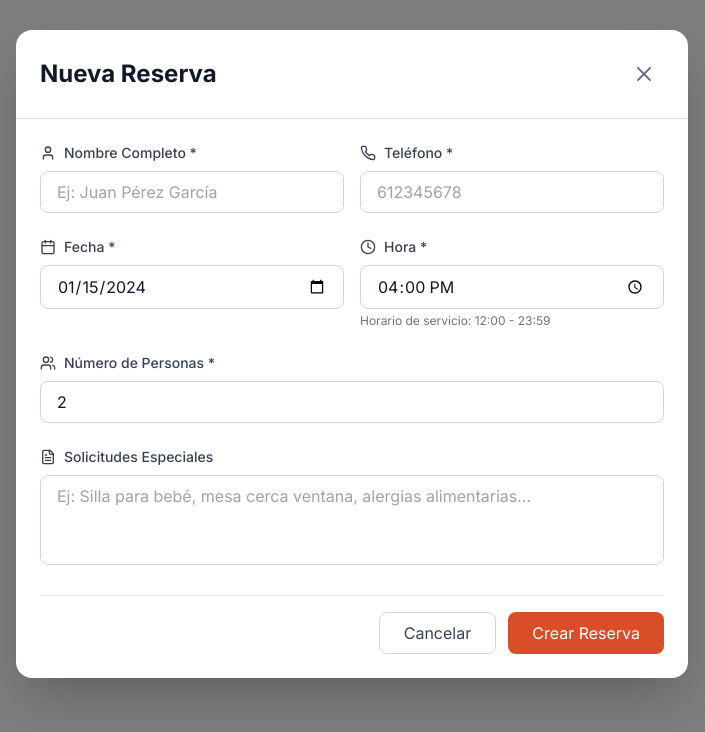
it: ReservaForm Component › Date Validation › should show error when date field is empty
Clear the date field labelled "Fecha *". click: (192, 287)
box: [40, 265, 344, 309]
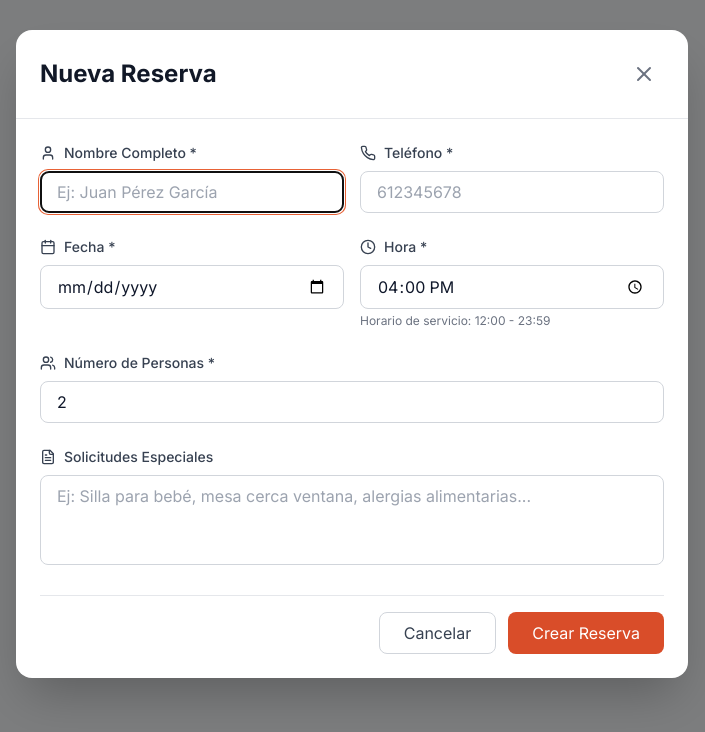
Click the button "Crear Reserva". click: (586, 633)
box: [508, 612, 664, 654]
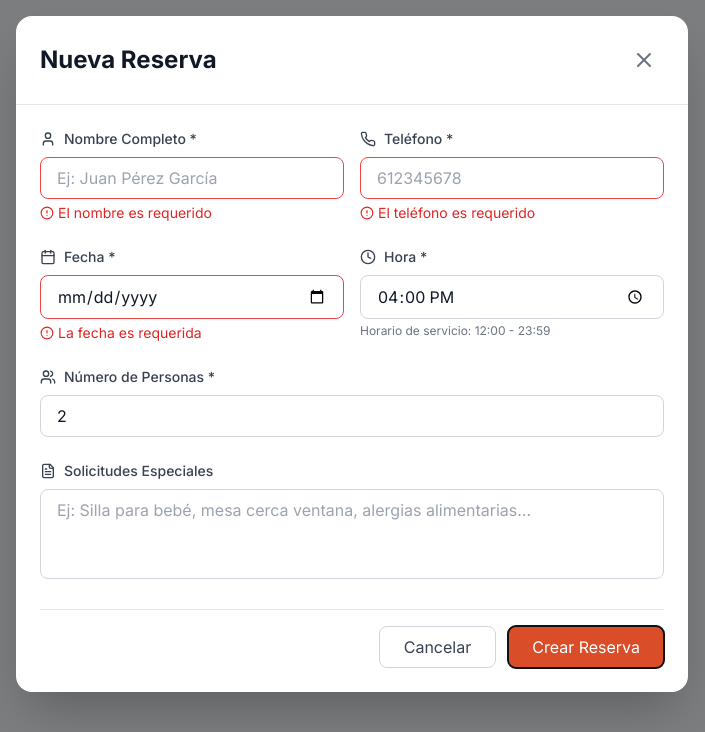
expect the text "La fecha es requerida" is shown: met, box [58, 323, 202, 343]
